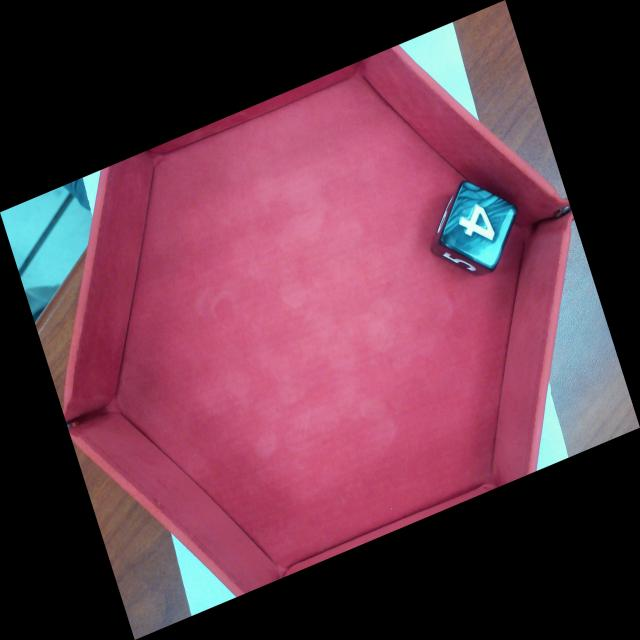dice: (435, 175, 521, 273)
